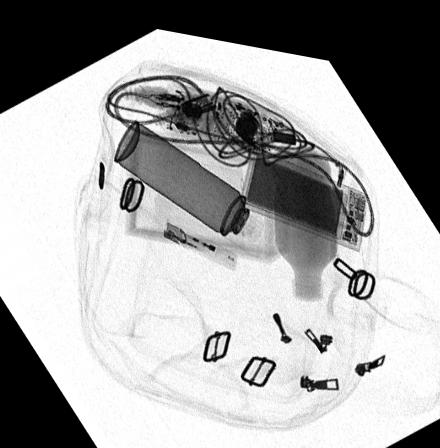Lighter: (160, 210, 239, 261)
Powerbank: (238, 135, 369, 236)
Sprayer: (112, 112, 282, 248)
